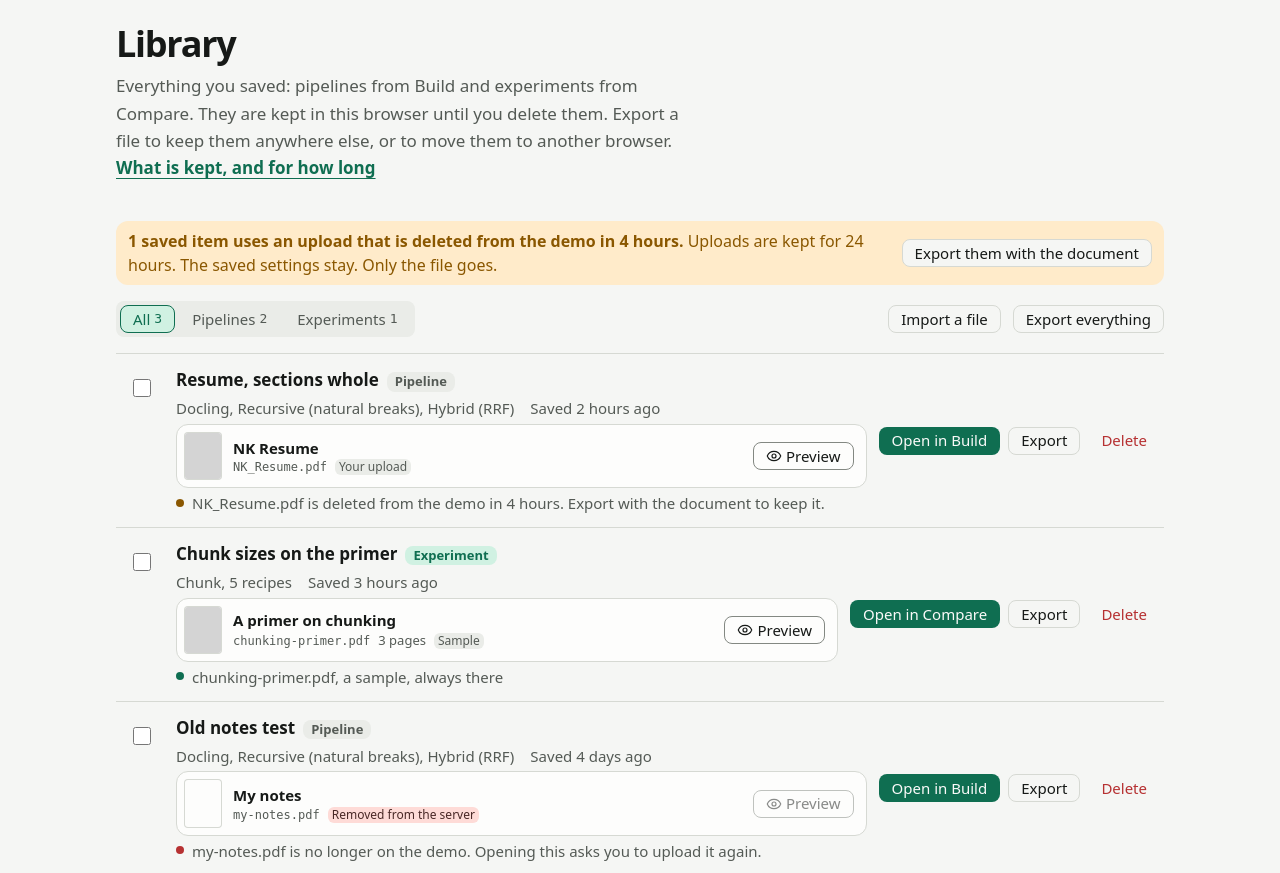
Library › exports several picked items at once
Expected: the text "deleted from the demo in" is shown, [192, 493, 825, 513]
Step 1. Click the checkbox named "Select Resume, sections whole" → [142, 388], box [133, 379, 151, 397]
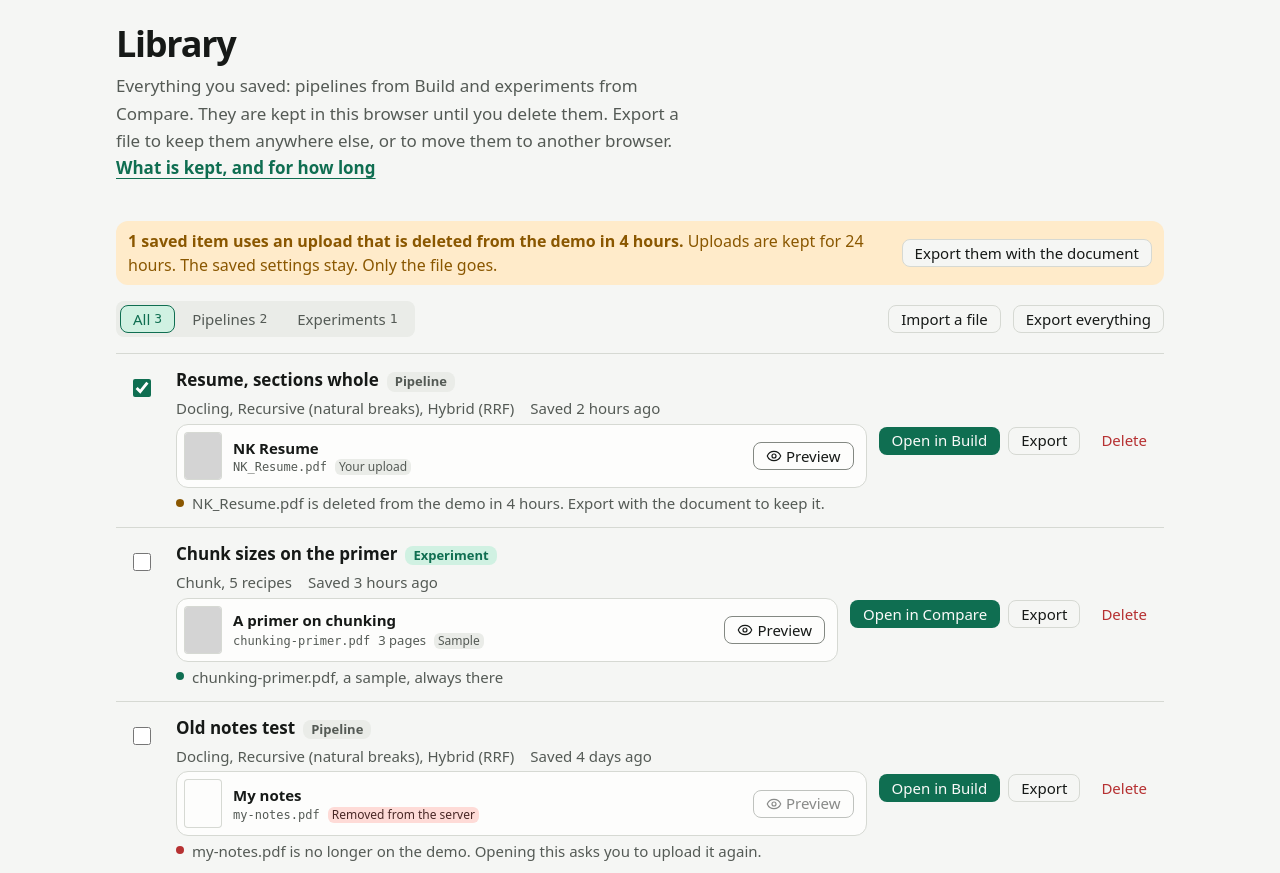
Step 2. Click the checkbox named "Select Old notes test" → [142, 736], box [133, 727, 151, 745]
(page scrolled)
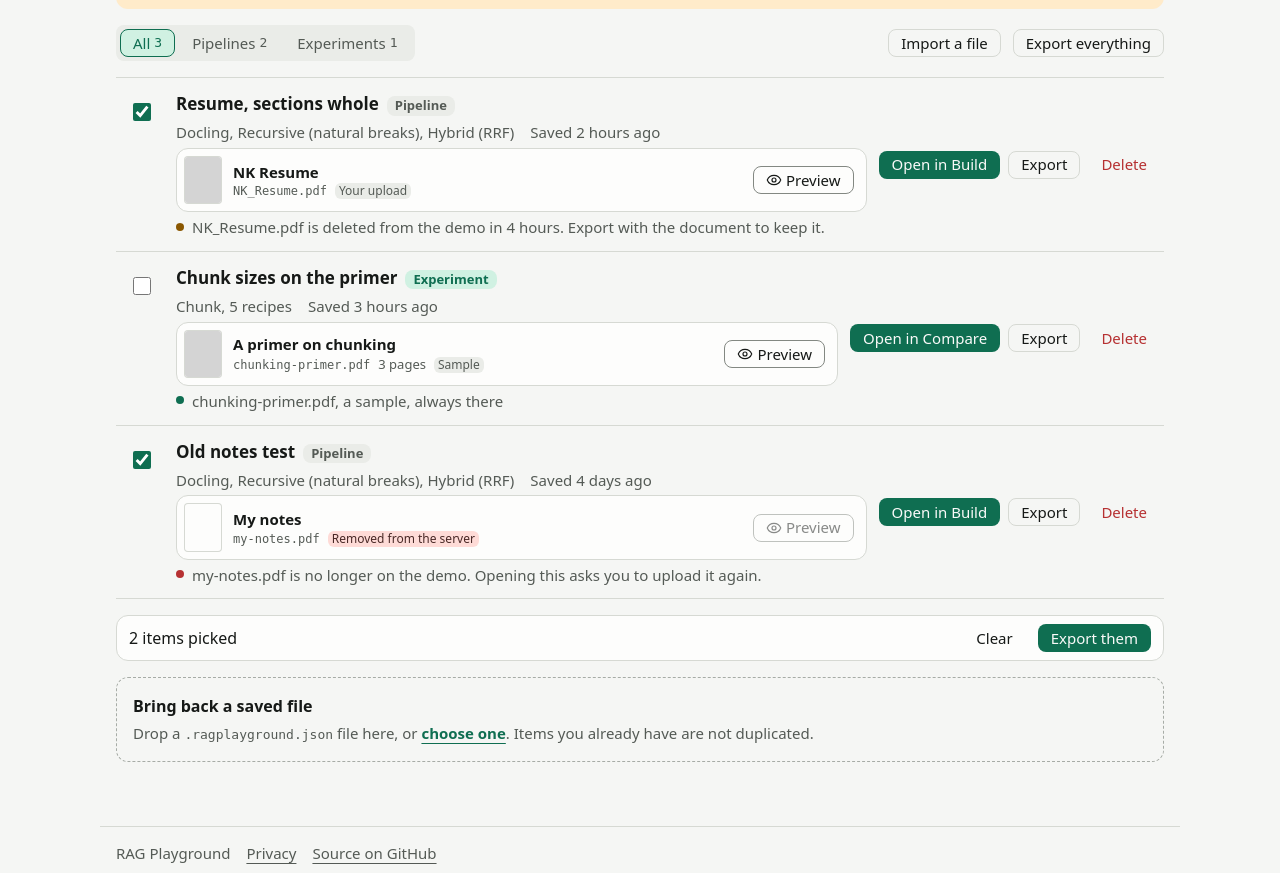
Result: the text "2 items picked" is shown at [129, 626, 237, 650]
Step 3. Click the button "Export them" → [1094, 638], box [1038, 624, 1151, 652]
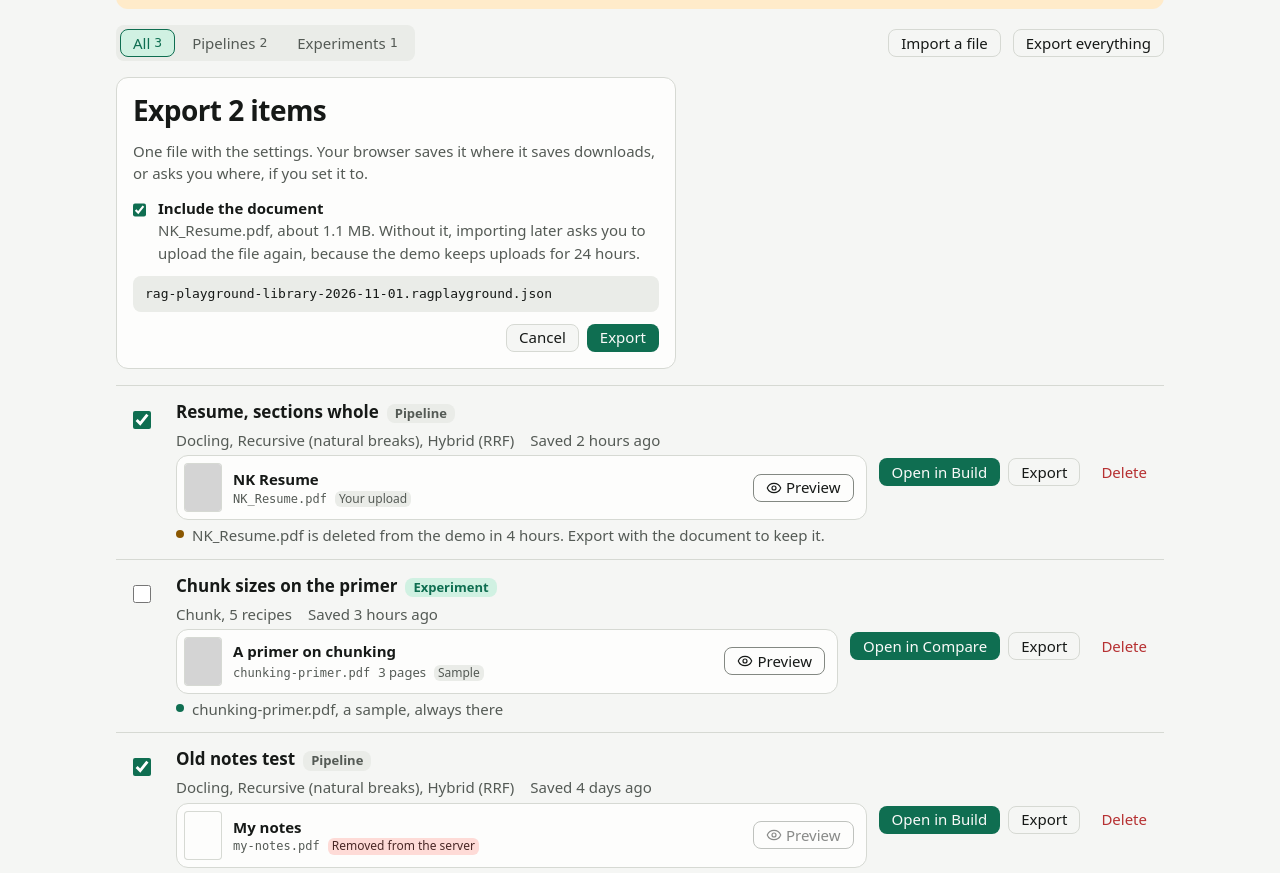
Result: the text "rag-playground-library-2026-11-01.ragplayground.json" is shown at [133, 276, 659, 312]
